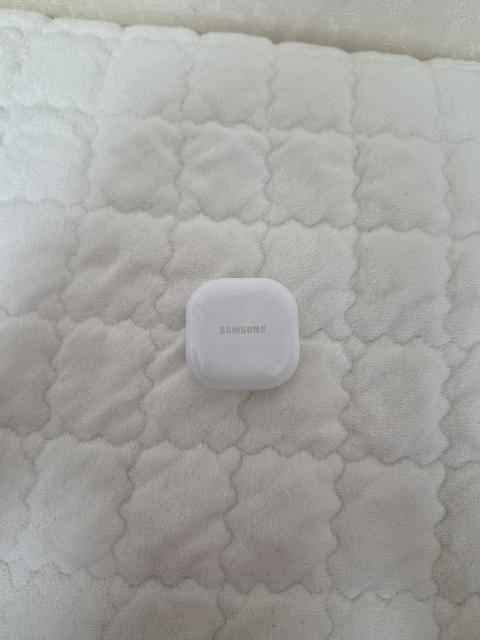earphone_case: (185, 277, 300, 390)
